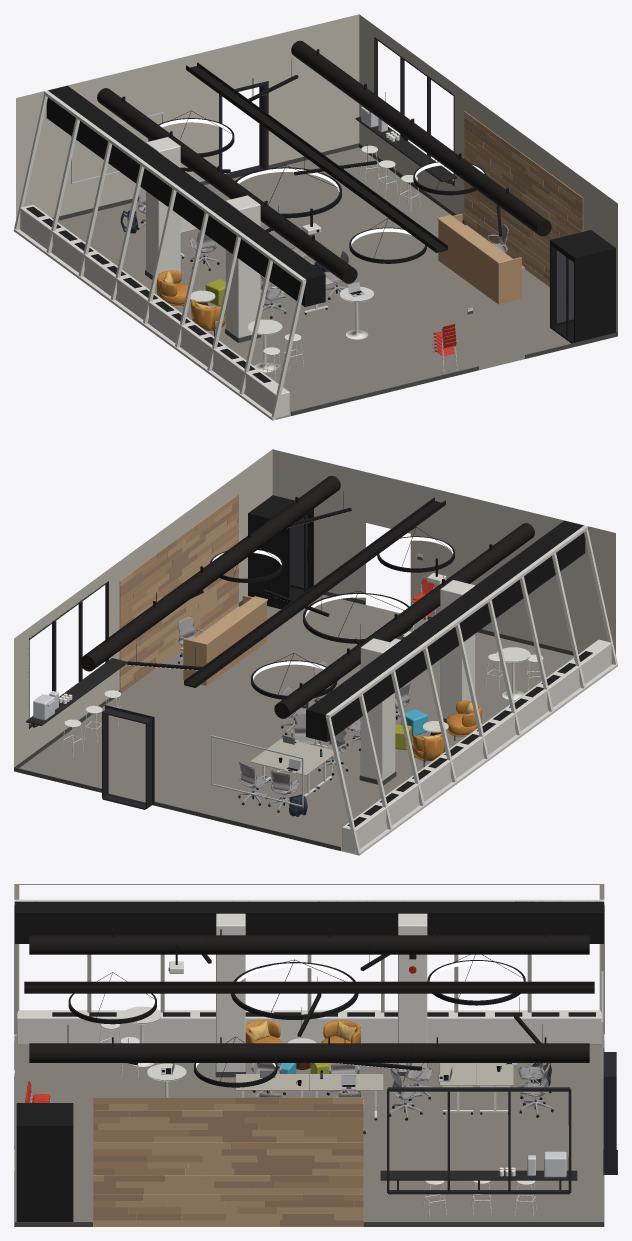
Rendered from set10.glb.
3 renders of one model, top to bottom at view 1: azimuth 30°, elevation 25°; view 2: azimuth 150°, elevation 25°; view 3: azimuth 270°, elevation 25°, orthographic. The views are drawn at different scales.
Visible parts, largest first — view 1: Static; view 2: Static; view 3: Static.
Boxes of the visible parts, x1=… form: Static: x1=14, y1=14, x2=617, y2=420; Static: x1=14, y1=449, x2=617, y2=855; Static: x1=14, y1=884, x2=617, y2=1226.
Size of the model in its own units: 9.33 by 3.42 by 12.28.
Materials: 38 (3 with a texture image).
